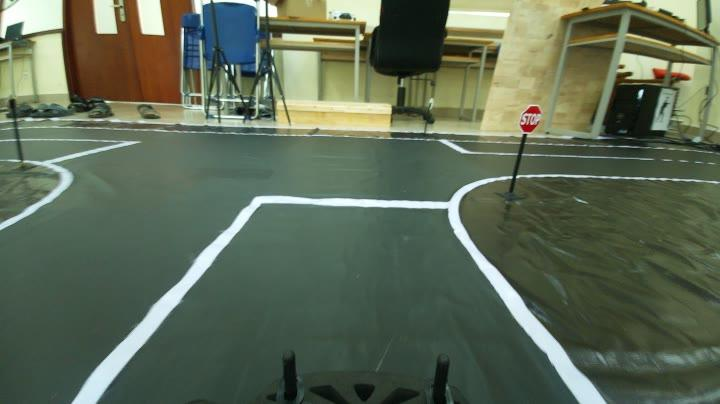stop: (516, 102, 546, 136)
